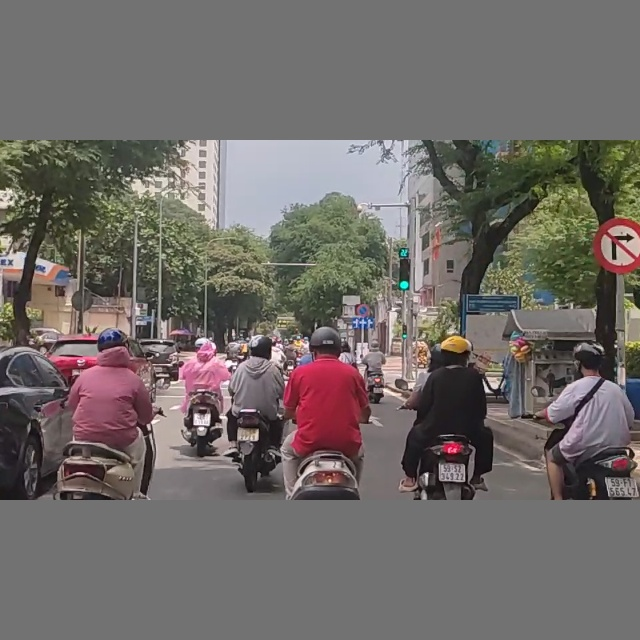P.123b: (594, 219, 640, 271)
P.131a: (354, 303, 370, 318)
